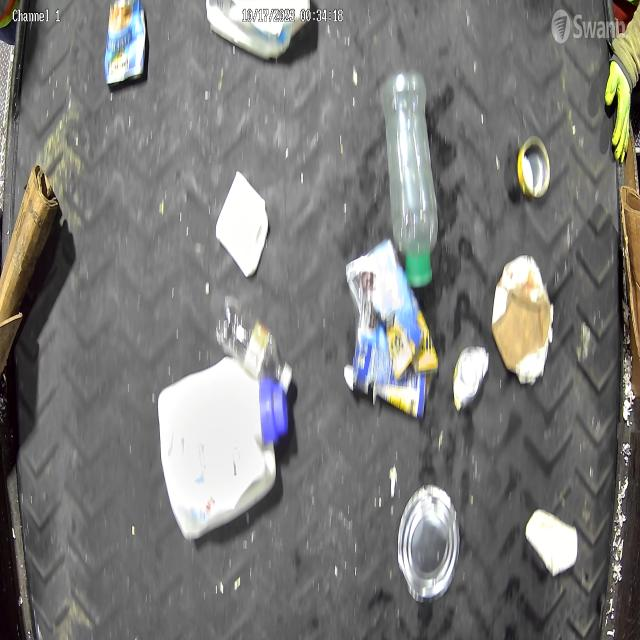can: (398, 483, 461, 605), (104, 0, 146, 87), (453, 342, 491, 414), (518, 135, 554, 201)
milk_jug: (156, 356, 288, 546)
plastic_bottle: (386, 72, 438, 284), (216, 294, 293, 394)
